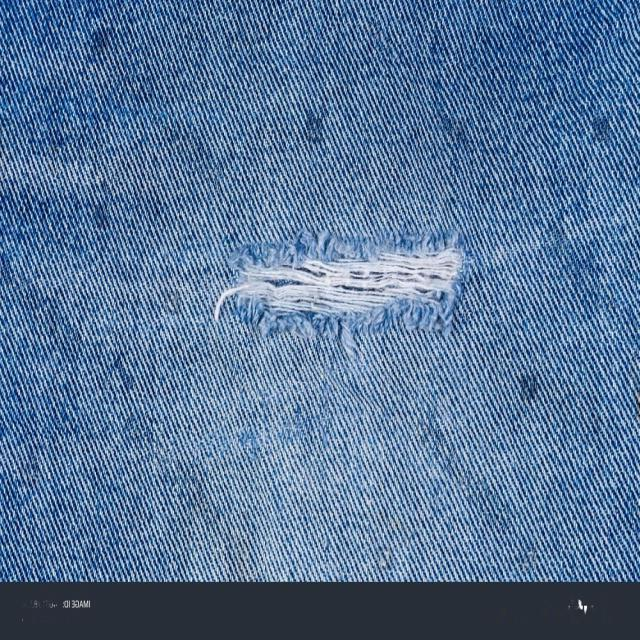Hole: (214, 230, 469, 357)
